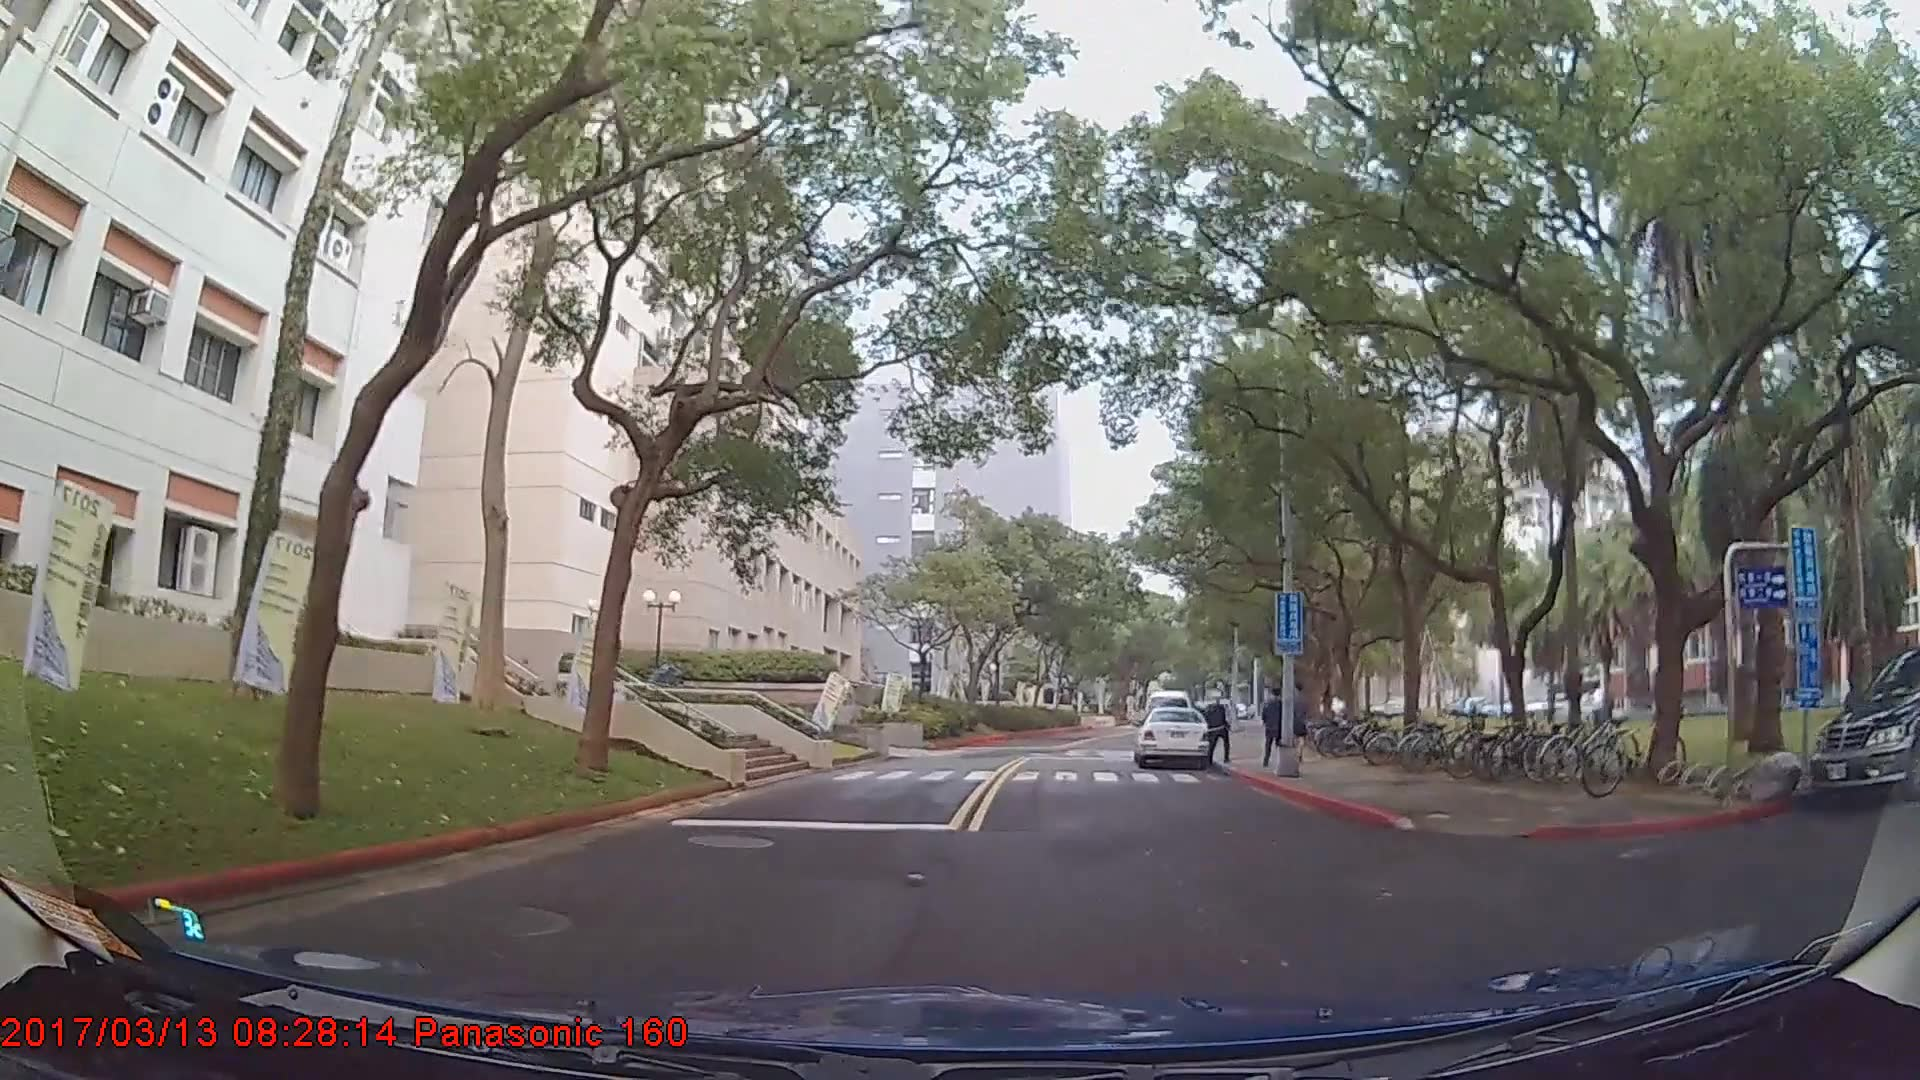pedestrian: (1259, 684, 1293, 766), (1206, 686, 1233, 763)
vehicle: (1812, 650, 1920, 802), (1132, 701, 1214, 767)
